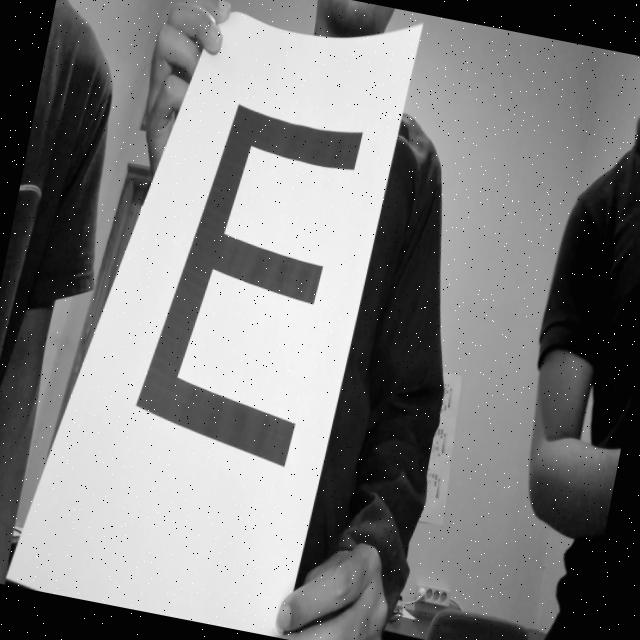e: (115, 64, 396, 507)
